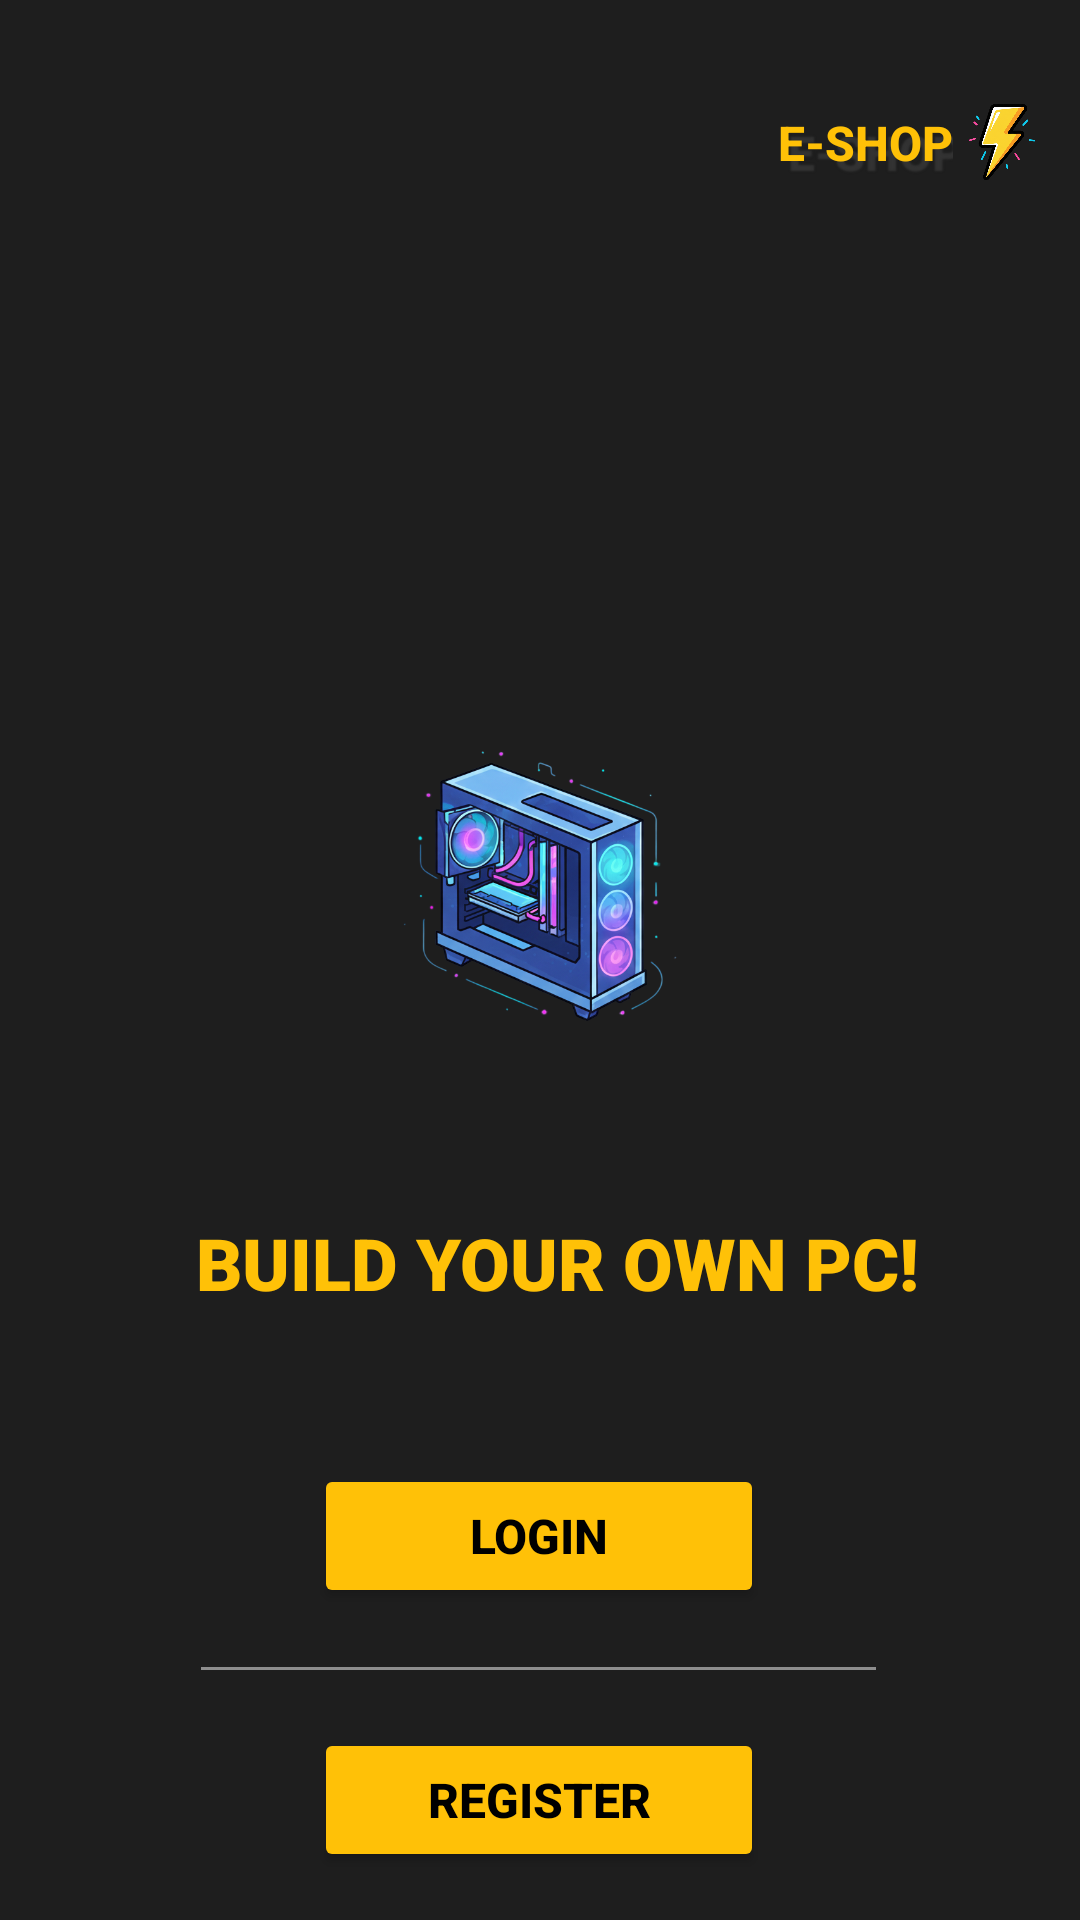

Screen size 1080px x 1920px. Icon name, then its center in pixels as point (x, y):
bolt: point (1002, 142)
